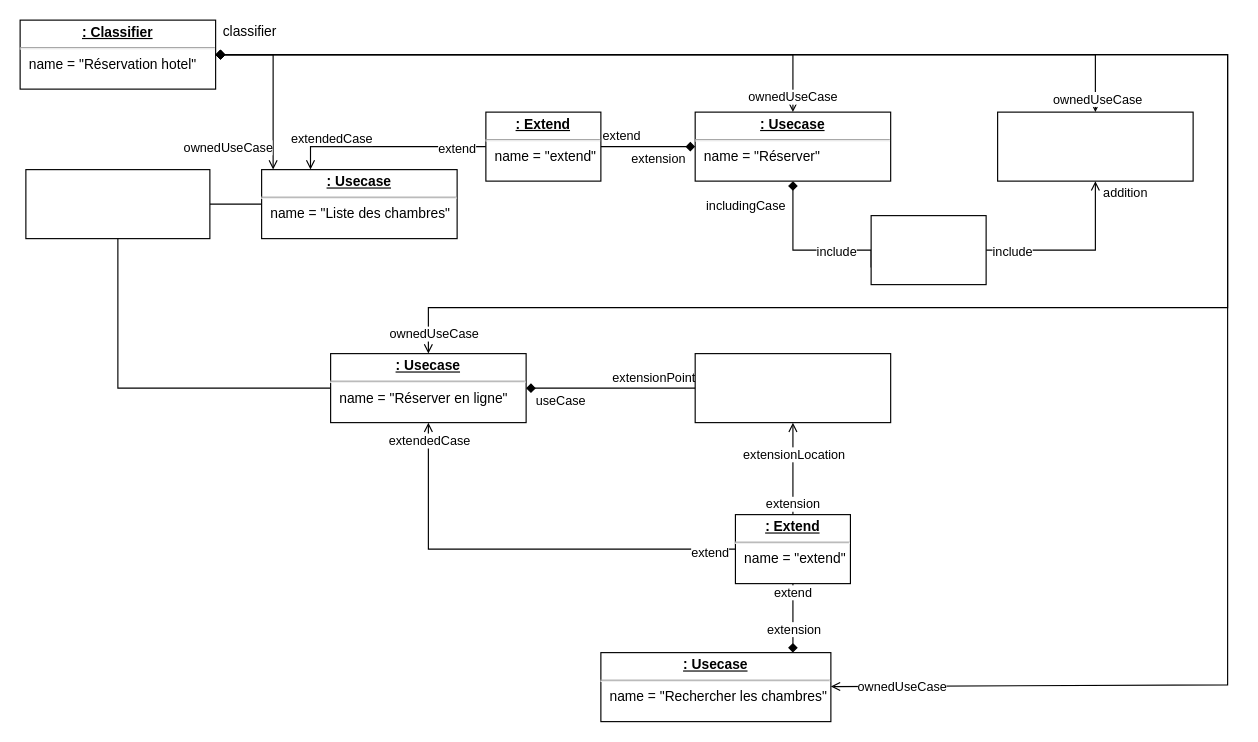
Image size: 1258x742. Some labels were removed from this diagram. The centre of each missing label's shape, as x and y in pixels:
: Actor name = "Client": point 117,203
: Extension Points name = "Connecter sur site": point 792,387
: Include name = "include": point 928,249
: Usecase name = "payer": point 1094,146
